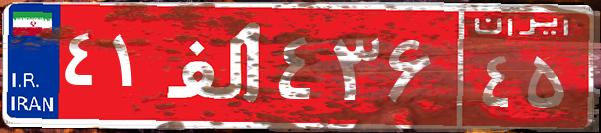1: (110, 28, 158, 105)
3: (330, 28, 385, 110)
4: (273, 28, 330, 110), (57, 26, 110, 107), (475, 38, 525, 113)
5: (525, 38, 570, 115)
6: (385, 28, 445, 110)
الف: (158, 15, 273, 115)
